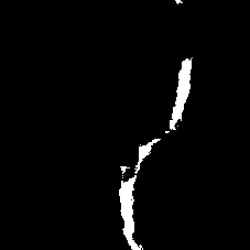crack: (117, 139, 161, 248), (168, 59, 193, 132)
